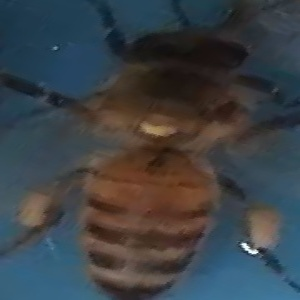bee: (20, 1, 290, 300)
